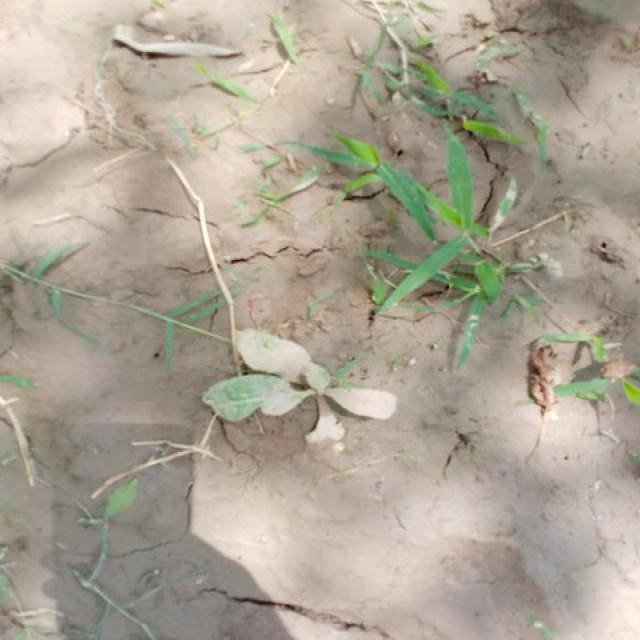crop: (204, 327, 400, 449)
